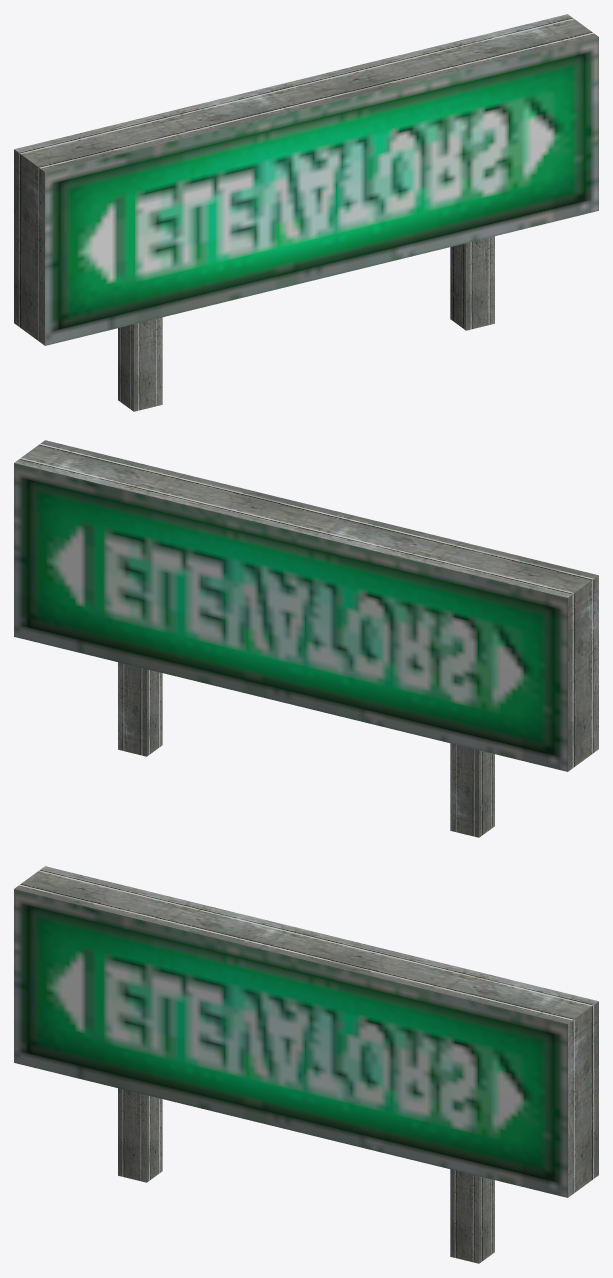
File: elev_hang_sides.fbx
The picture shows the model from 3 angles, top to bottom: view 1: azimuth 30°, elevation 25°; view 2: azimuth 150°, elevation 25°; view 3: azimuth 330°, elevation 25°; orthographic projection.
Visible parts, largest first — view 1: mesh_0; view 2: mesh_0; view 3: mesh_0.
Boxes of the visible parts, box(x1,y1,x2,y2) form: mesh_0: box(14, 14, 598, 411); mesh_0: box(14, 440, 598, 837); mesh_0: box(14, 866, 598, 1263).
Bounding box in the file's own units: 100 × 46.38 × 9.74.
Materials: 1 (1 with a texture image).
